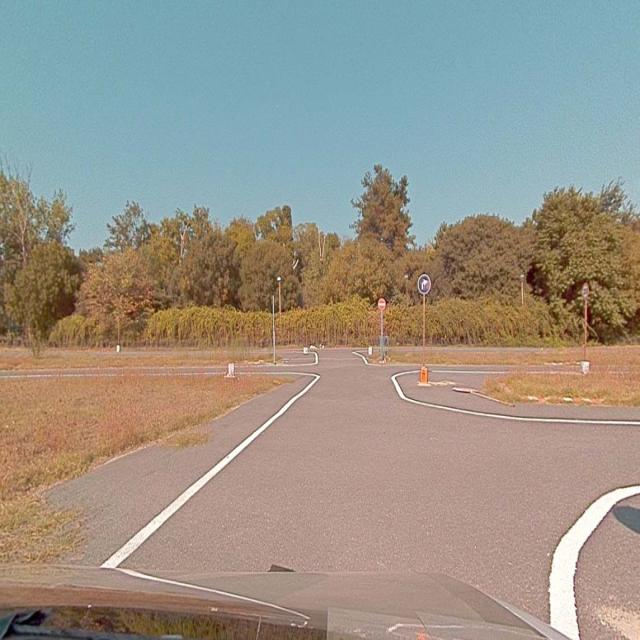girisyok: (378, 299, 386, 310)
sag: (418, 274, 431, 294)
